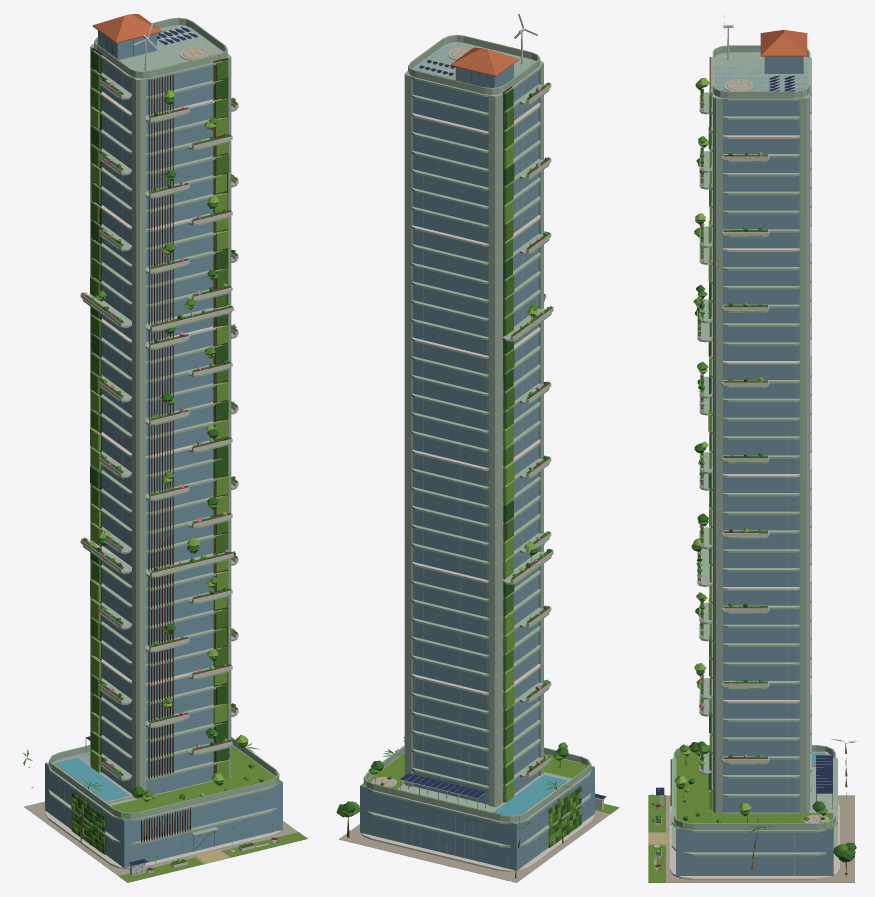
File: home_5.glb
3 views of the same model, side by side, from view 1: azimuth 30°, elevation 25°; view 2: azimuth 150°, elevation 25°; view 3: azimuth 270°, elevation 25° (orthographic).
Visible parts, largest first — view 1: body, windows; view 2: body, windows; view 3: body, windows.
Part boxes in pixels (bbox=[...]): body: bbox=[23, 14, 307, 882]; windows: bbox=[49, 17, 278, 812]; body: bbox=[336, 14, 619, 882]; windows: bbox=[364, 34, 590, 816]; body: bbox=[648, 15, 856, 882]; windows: bbox=[674, 45, 835, 823].
Bounding box in the file's own units: 34.93 × 138 × 32.77.
